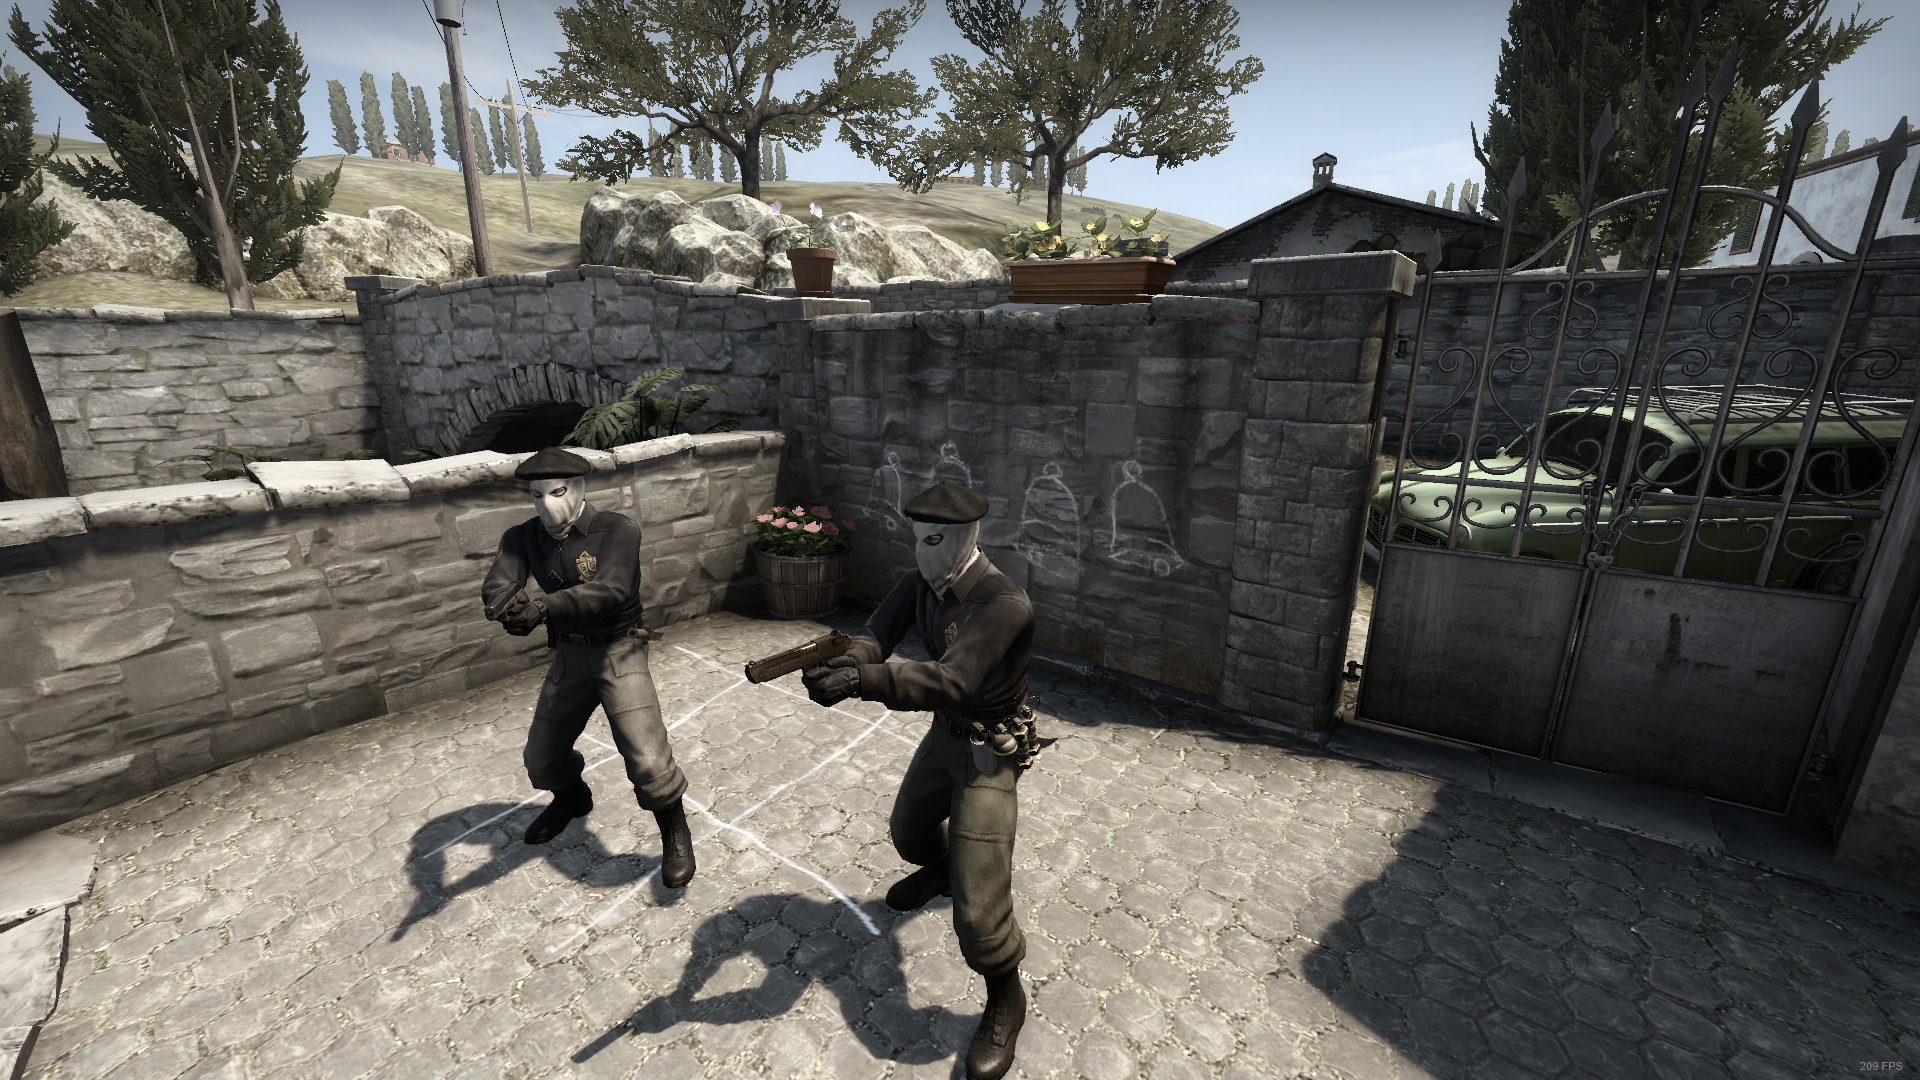t: (789, 483, 1065, 1080), (469, 447, 704, 891)
